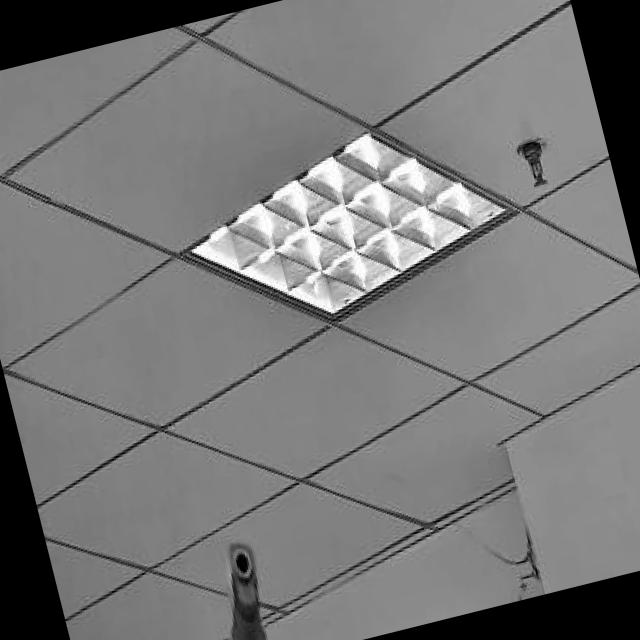Guns: (132, 490, 319, 640)
